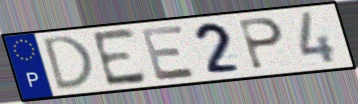2: (191, 20, 247, 78)
4: (296, 10, 340, 67)
D: (41, 34, 97, 94)
E: (88, 26, 150, 90), (138, 23, 200, 83)
P: (236, 16, 286, 72)
